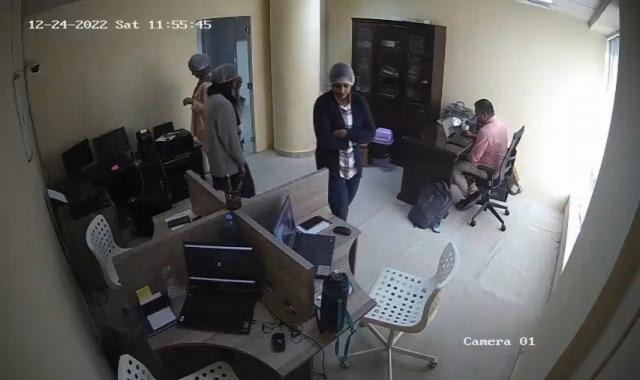hairnet: (327, 62, 356, 97), (185, 52, 213, 77), (210, 63, 240, 86)
no_hairnet: (472, 97, 494, 130)
